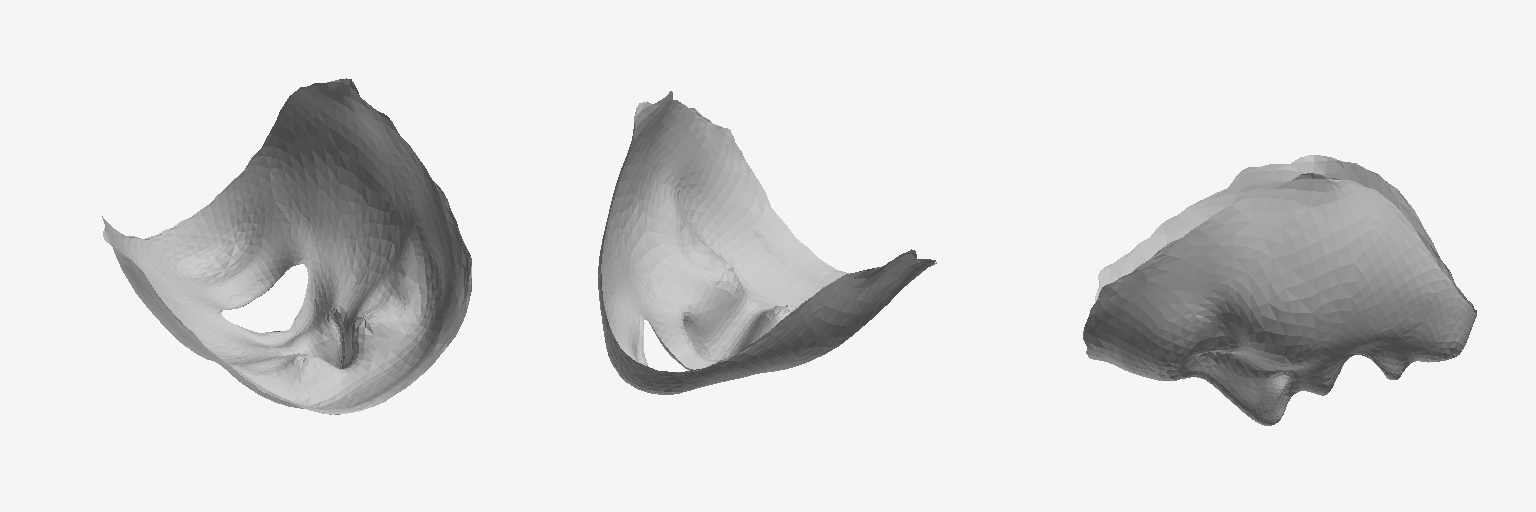
Rendered from face_gab_sfm75.obj.
The picture shows the model from 3 angles: view 1: azimuth 30°, elevation 25°; view 2: azimuth 150°, elevation 25°; view 3: azimuth 270°, elevation 25°; orthographic projection.
Size of the model in its own units: 166 by 163 by 212.